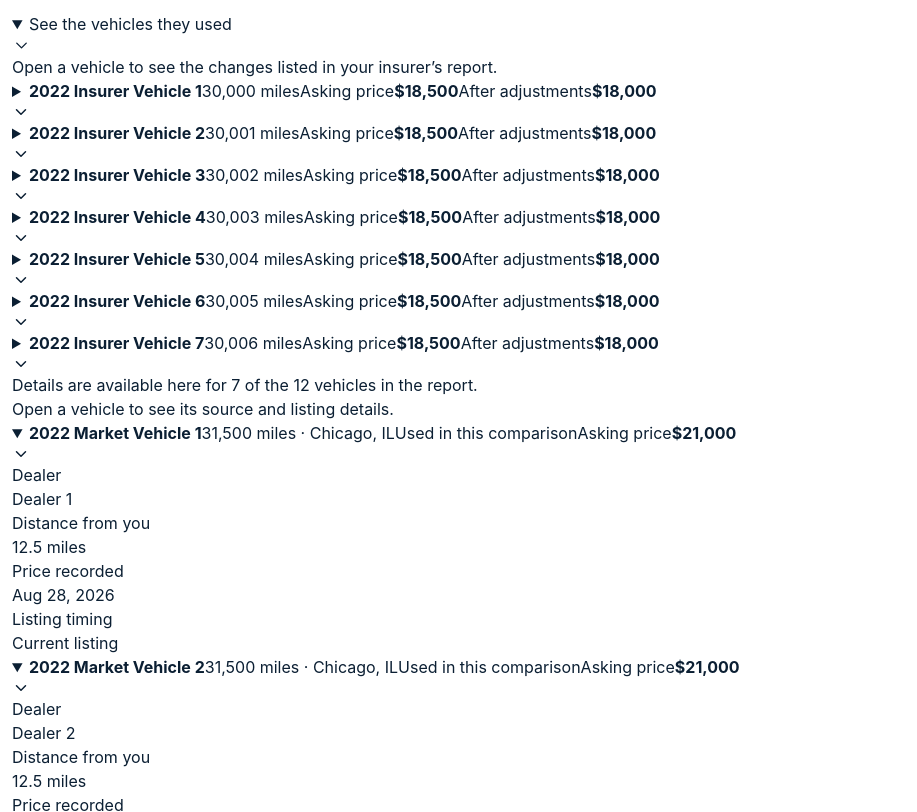
Scenario: completed case evidence › preserves every insurer adjustment and distinguishes non-disclosure from unavailability
Click the text "2022 Insurer Vehicle 1" at coordinates (115, 91), box left=29, top=81, right=202, bottom=101
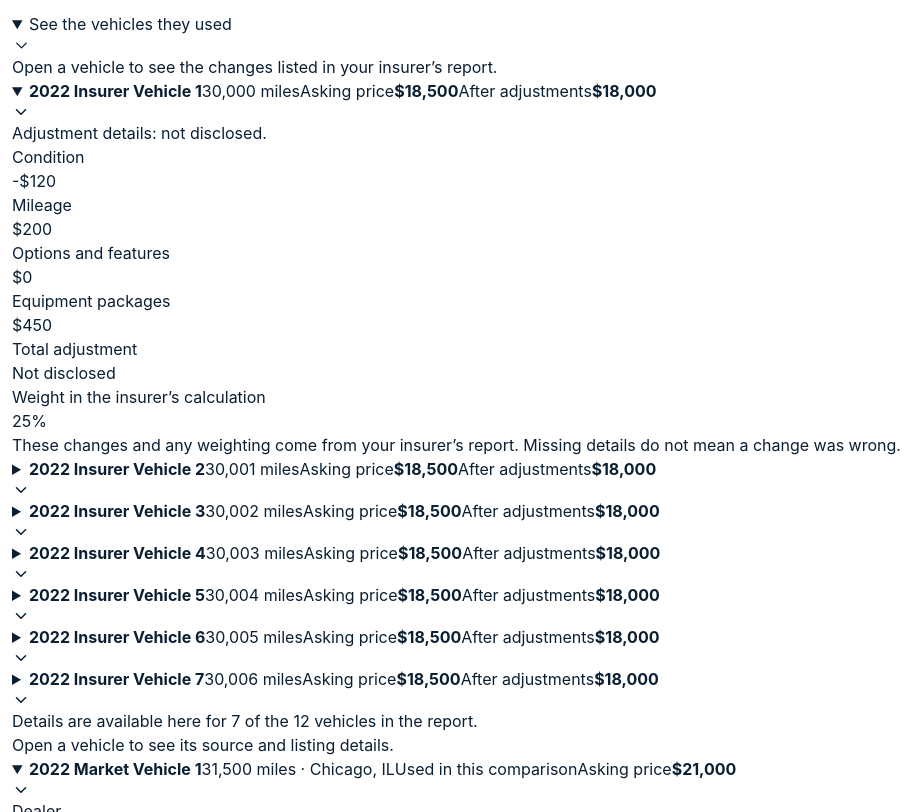
Expected: the text "-$120" is shown, left=12, top=171, right=56, bottom=191
Expected: the text "$200" is shown, left=12, top=219, right=52, bottom=239
Expected: the text "$0" is shown, left=12, top=267, right=32, bottom=287
Click the text "2022 Insurer Vehicle 2" at coordinates (117, 469), box left=29, top=459, right=205, bottom=479
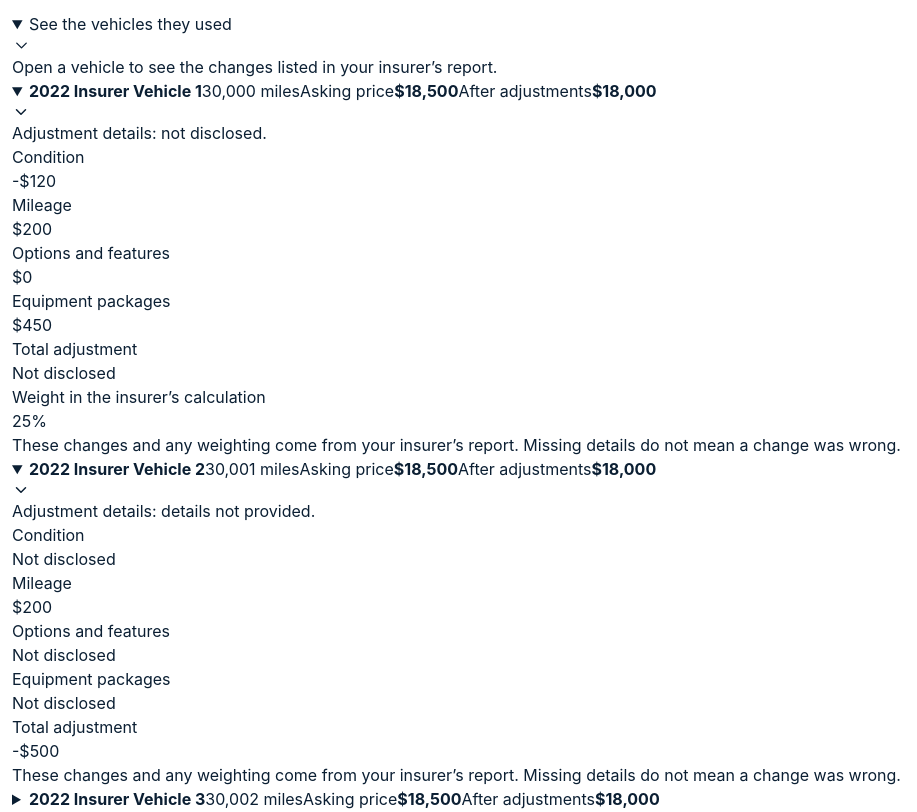
Expected: the text "Adjustment details: details not provided." is shown, left=12, top=501, right=315, bottom=521
